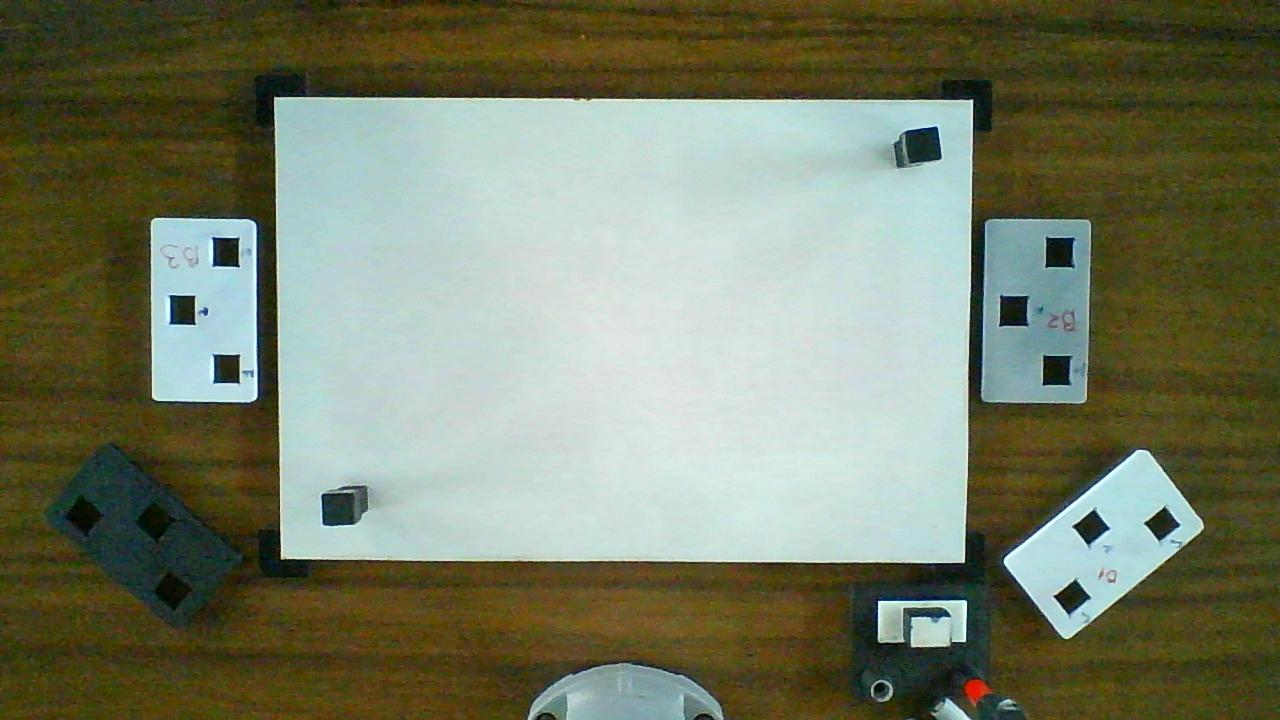peca_preta: (906, 128, 941, 162), (323, 497, 354, 525)
